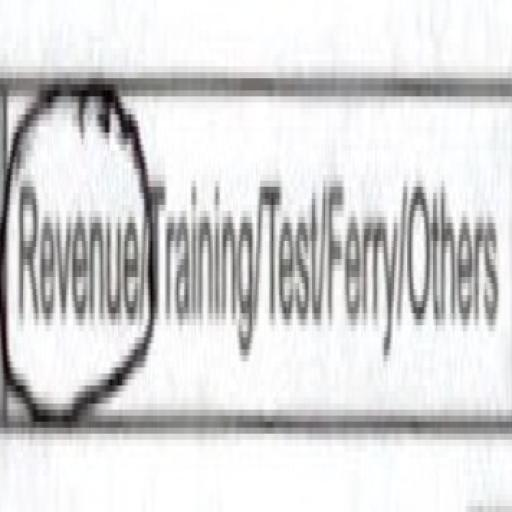check: (2, 38, 154, 452)
